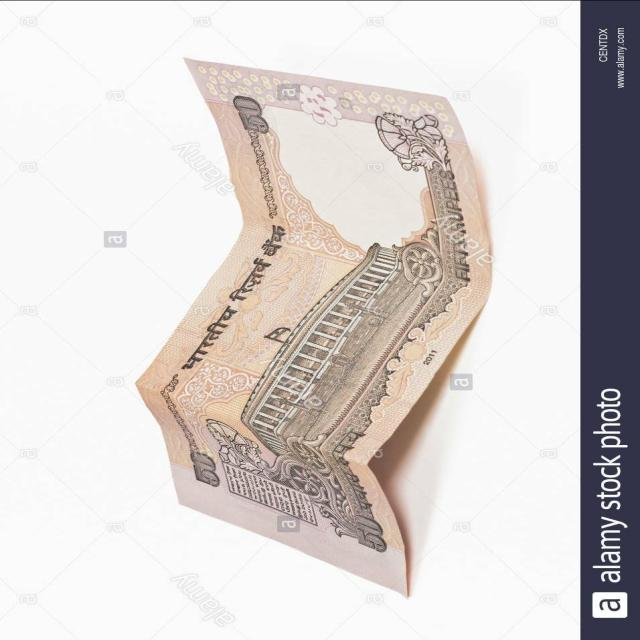50IndianRupees: (121, 51, 499, 598)
